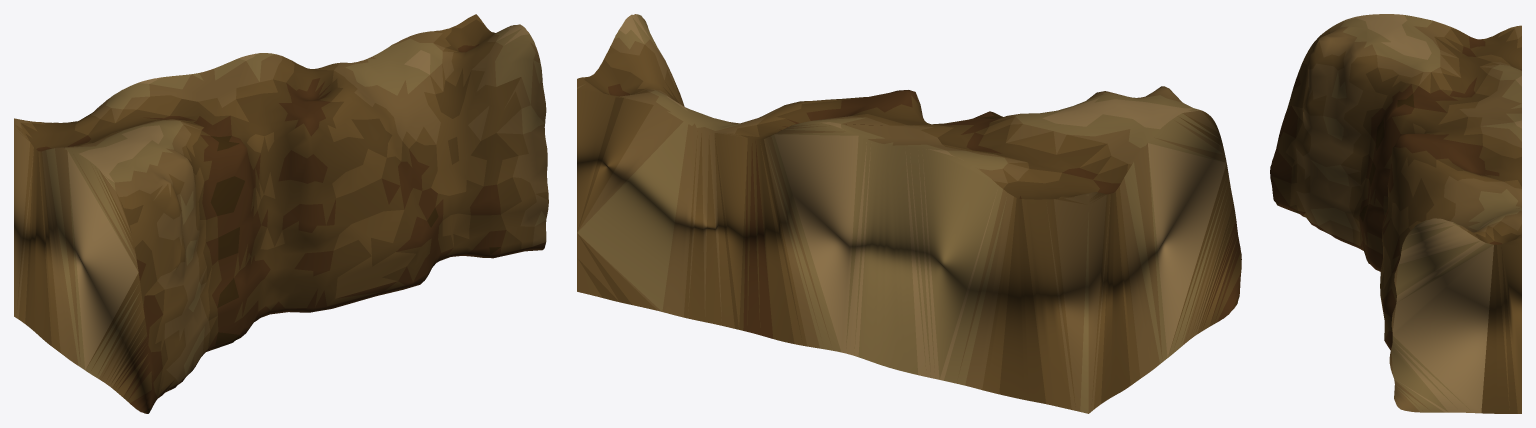
File: rock_arch_206.glb
The picture shows the model from 3 angles, left to right: view 1: azimuth 30°, elevation 25°; view 2: azimuth 150°, elevation 25°; view 3: azimuth 270°, elevation 25°; orthographic projection. The views are drawn at different scales.
Parts seen in each view (by area): view 1: rock_arch_206; view 2: rock_arch_206; view 3: rock_arch_206.
Part boxes in pixels (x1=…): rock_arch_206: x1=14, y1=14, x2=548, y2=413; rock_arch_206: x1=577, y1=14, x2=1241, y2=413; rock_arch_206: x1=1270, y1=14, x2=1521, y2=413.
Size of the model in its own units: 24 by 10.83 by 12.44.
